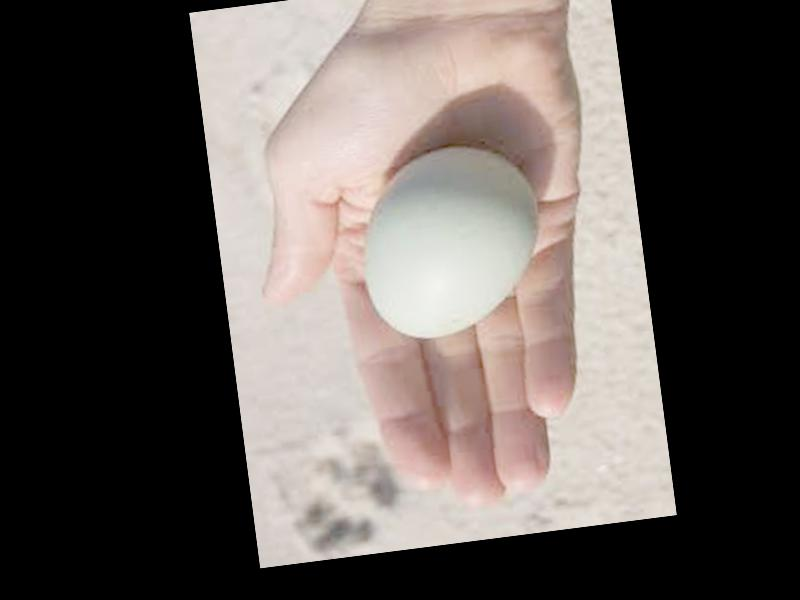Eggs: (355, 141, 552, 340)
